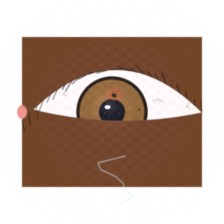foreign_body_visible: (113, 126, 132, 141)
